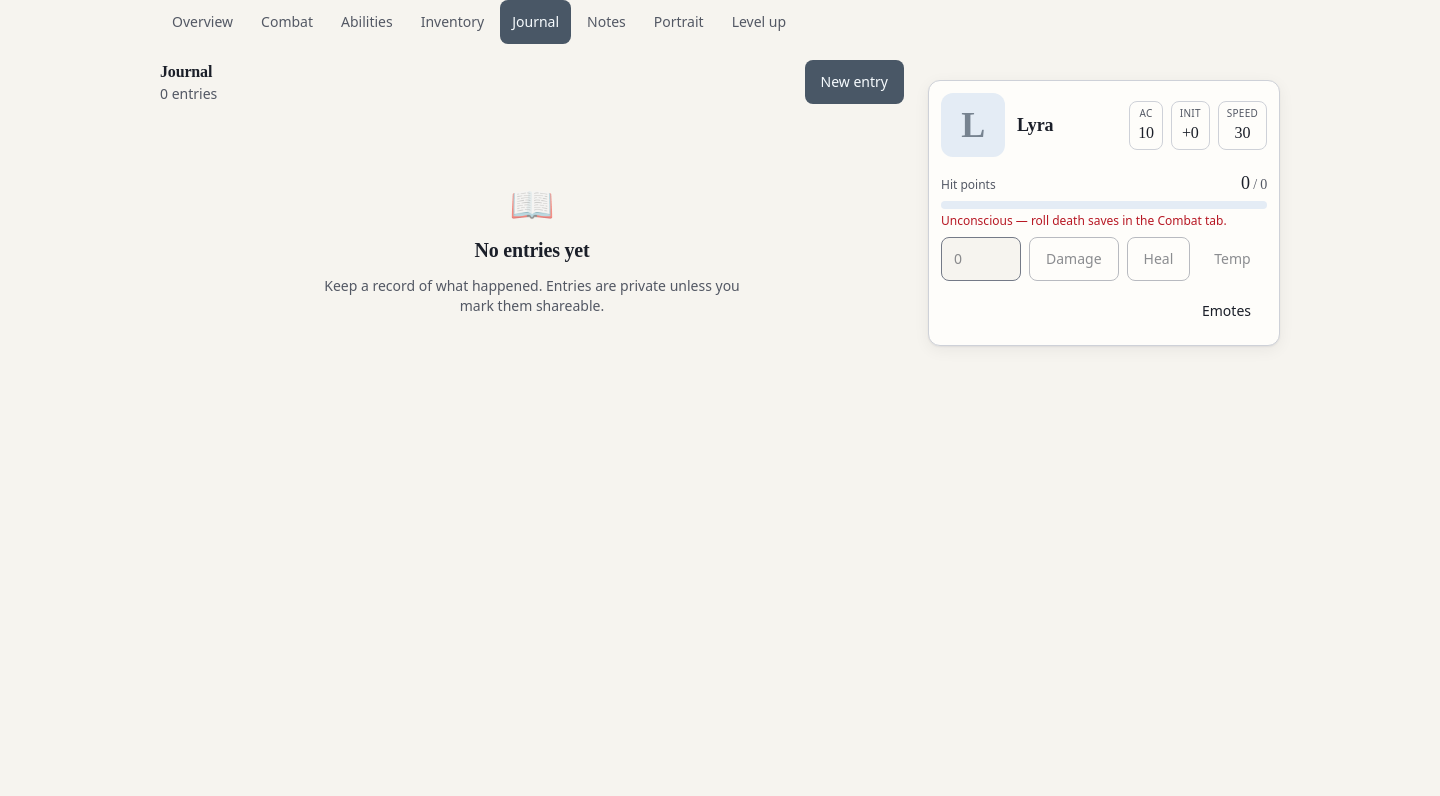
Test: journal privacy › shows both choices in words, never as an unlabelled toggle
Click the button "New entry": {"x": 854, "y": 82} [805, 60, 904, 104]
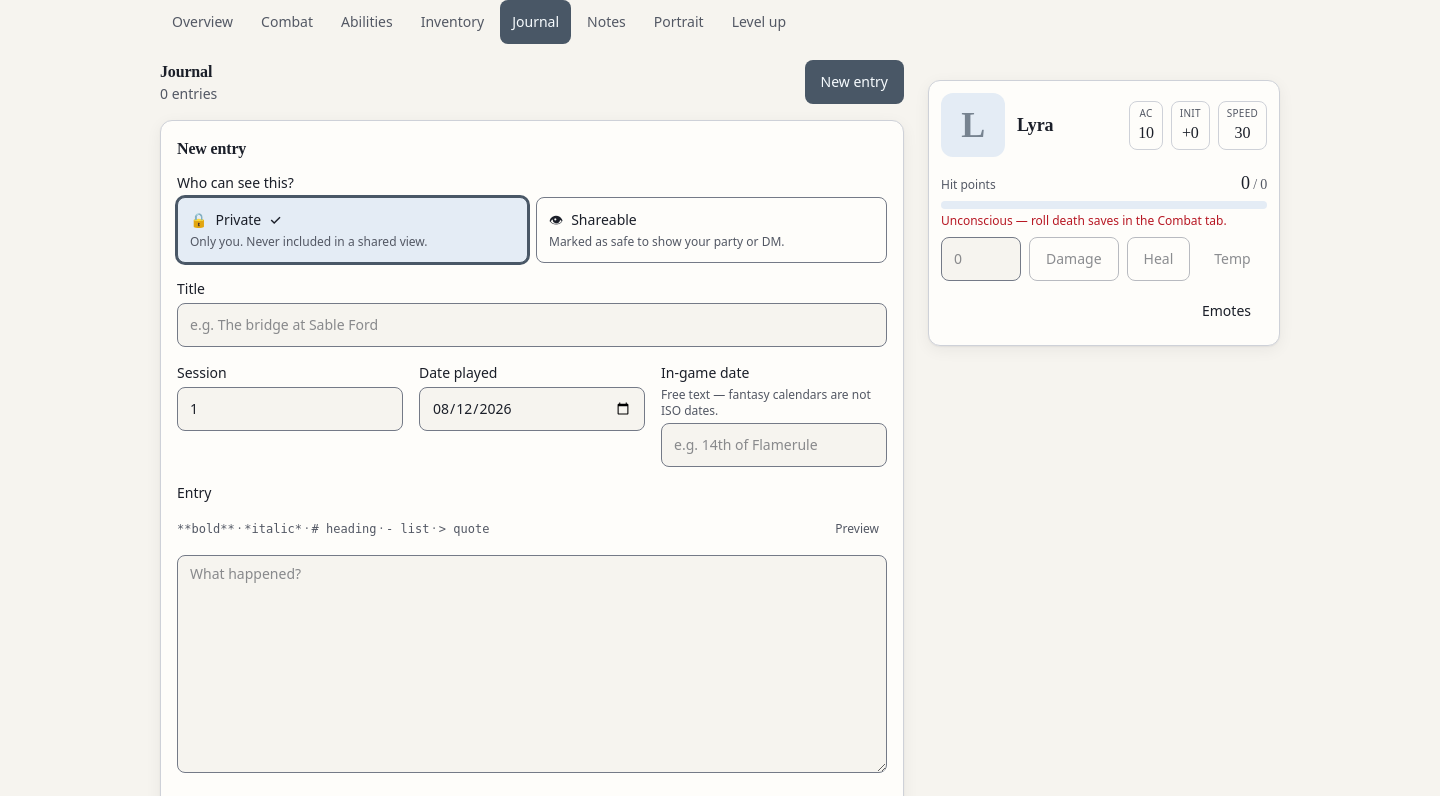
expect the text "Who can see this?" is shown: met, box [177, 173, 294, 193]
expect the text "Only you. Never included in a shared view." is shown: met, box [190, 233, 428, 250]
expect the text "Marked as safe to show your party or DM." is shown: met, box [549, 233, 784, 250]
